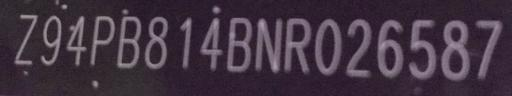letter: (438, 19, 472, 79), (405, 19, 437, 79), (140, 15, 174, 70), (474, 19, 504, 81), (344, 17, 374, 77), (375, 18, 405, 76), (252, 17, 284, 71), (312, 17, 342, 73), (224, 15, 252, 71), (284, 17, 312, 73), (62, 12, 90, 67), (11, 12, 37, 69), (89, 13, 115, 68), (198, 16, 224, 71), (38, 12, 64, 65), (116, 14, 140, 70), (174, 15, 198, 71)
